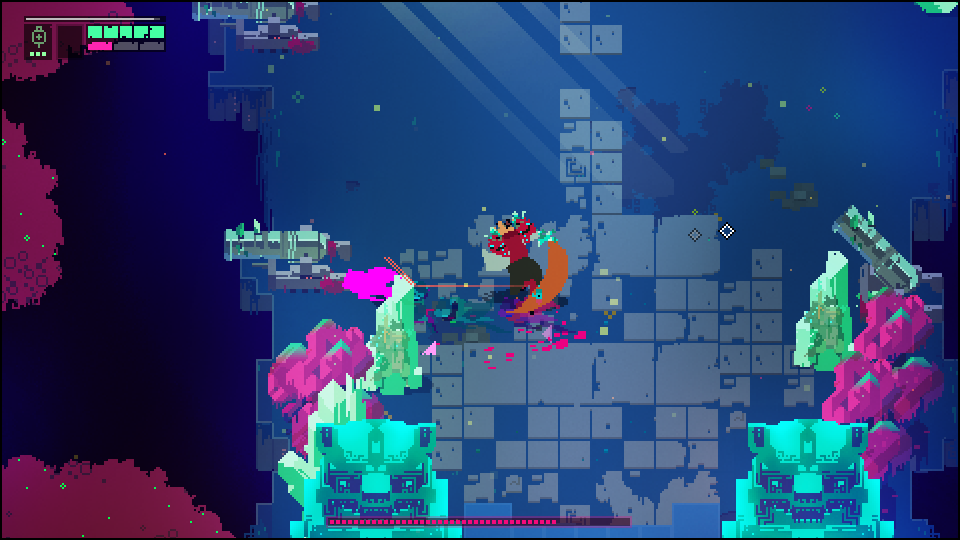hanged_man: (474, 207, 567, 312)
player: (337, 261, 404, 306)
